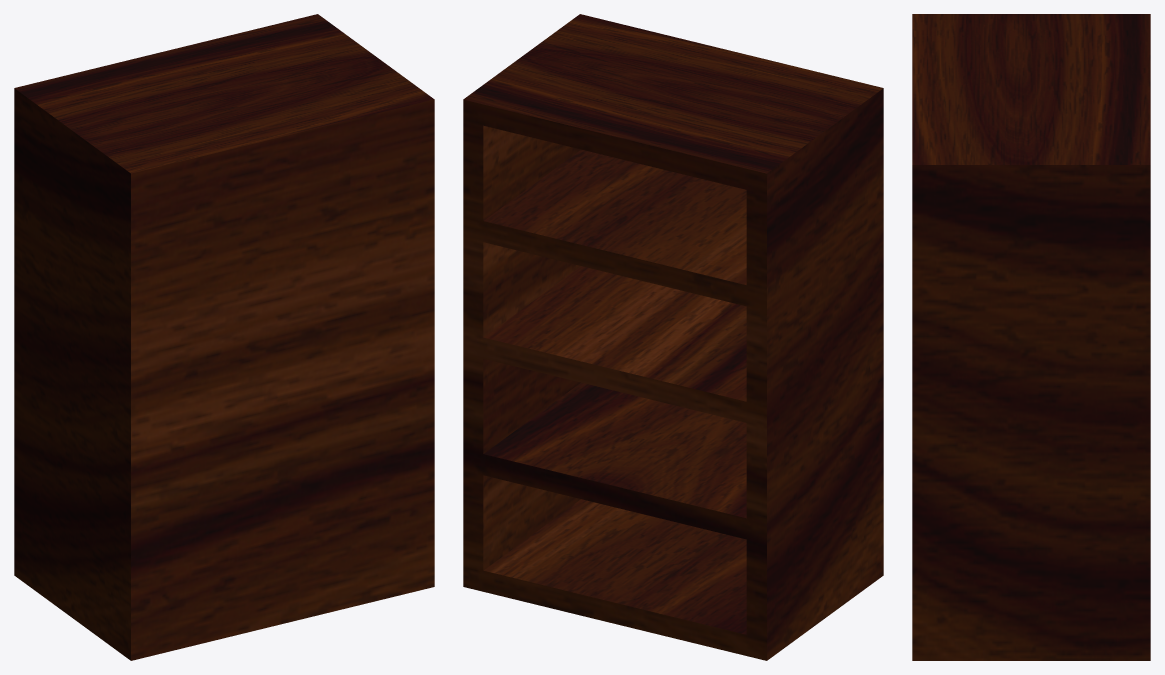
Rendered from bookcase.glb.
The picture shows the model from 3 angles, left to right: view 1: azimuth 30°, elevation 25°; view 2: azimuth 150°, elevation 25°; view 3: azimuth 270°, elevation 25°; orthographic projection.
Visible parts, largest first — view 1: Cube; view 2: Cube; view 3: Cube.
Part boxes in pixels (x1,y1,x2,y2): Cube: [14, 14, 434, 660]; Cube: [463, 14, 883, 660]; Cube: [912, 14, 1150, 660].
Size of the model in its own units: 3 by 4.6 by 2.
1 material, 1 textured.
